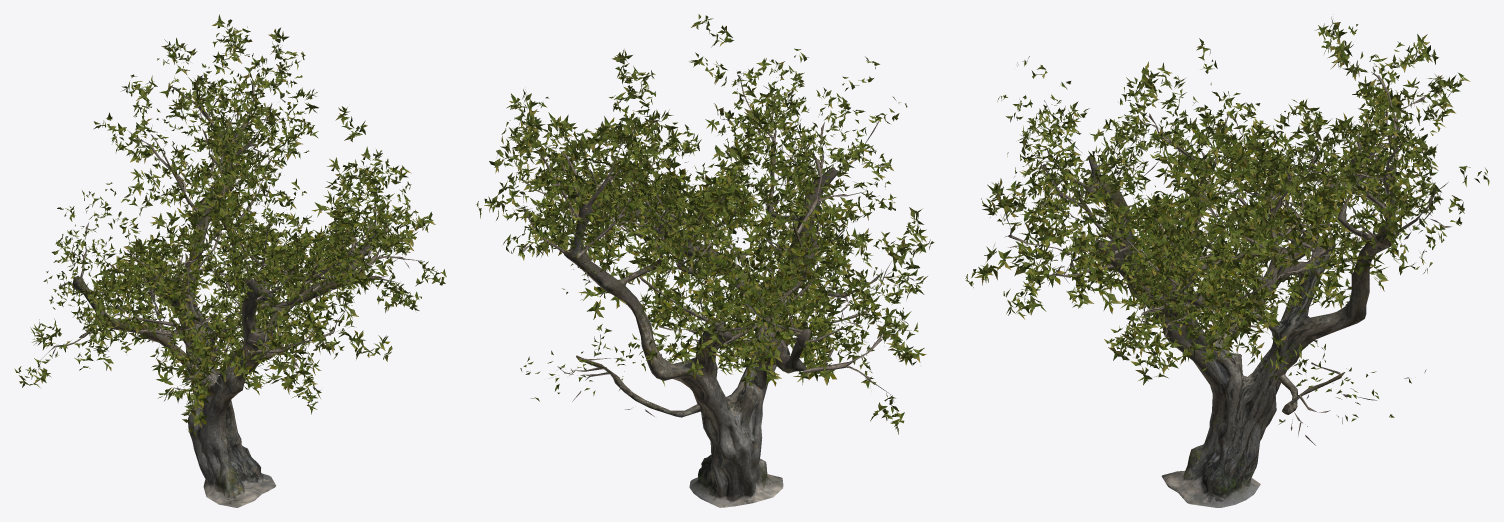
The model's file is island_tree_01_lod.glb.
The picture shows the model from 3 angles, left to right: view 1: azimuth 30°, elevation 25°; view 2: azimuth 150°, elevation 25°; view 3: azimuth 270°, elevation 25°; orthographic projection. The views are drawn at different scales.
Parts seen in each view (by area): view 1: island_tree_01; view 2: island_tree_01; view 3: island_tree_01.
Part boxes in pixels (x1,y1,x2,y2): island_tree_01: (14,14,446,507); island_tree_01: (476,14,934,507); island_tree_01: (965,17,1489,507).
Bounding box in the file's own units: 4.78 × 5.04 × 4.78.
3 materials, 3 textured.
